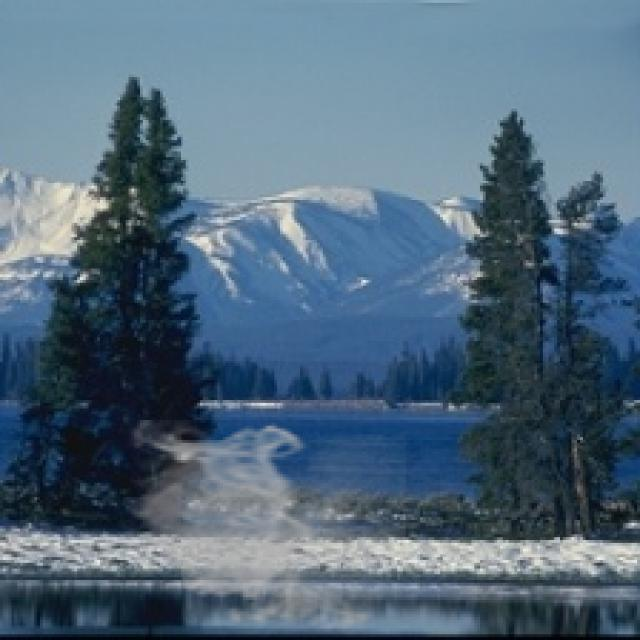smoke: (123, 420, 406, 637)
